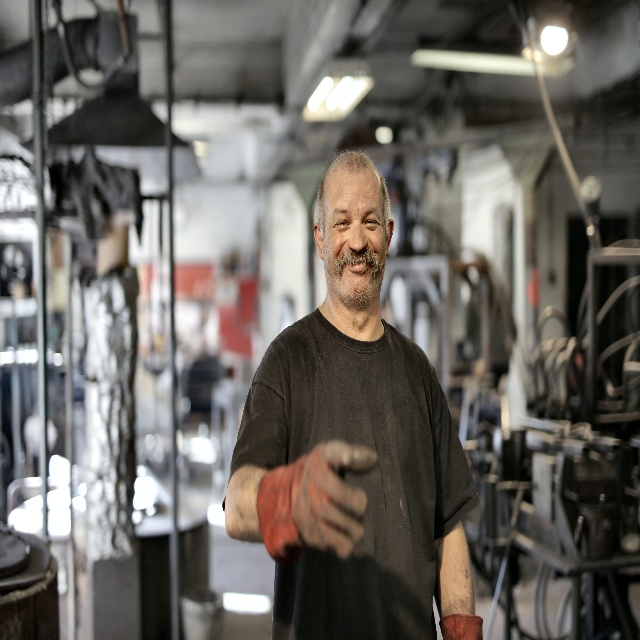Guantes: (256, 449, 378, 570), (437, 611, 485, 640)
